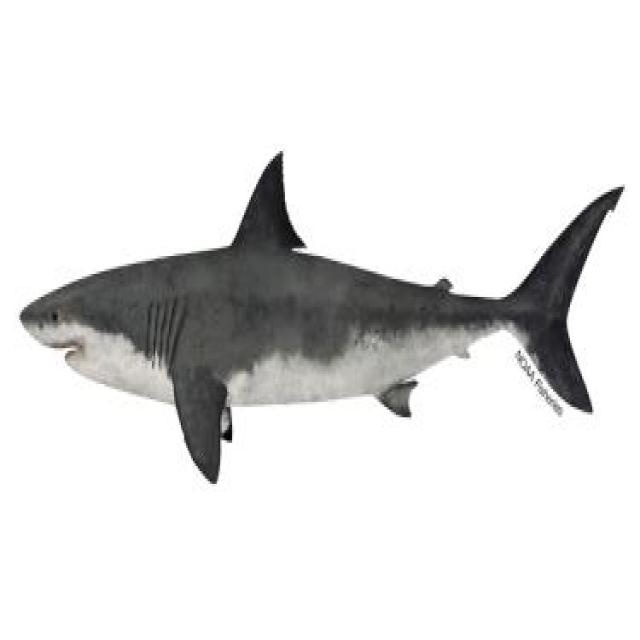gaviota: (0, 0, 638, 637), (20, 154, 620, 481)
